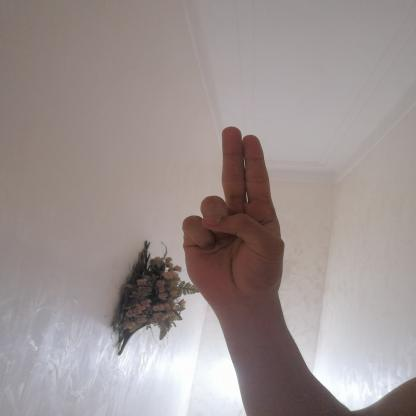TA: (160, 113, 296, 309)
